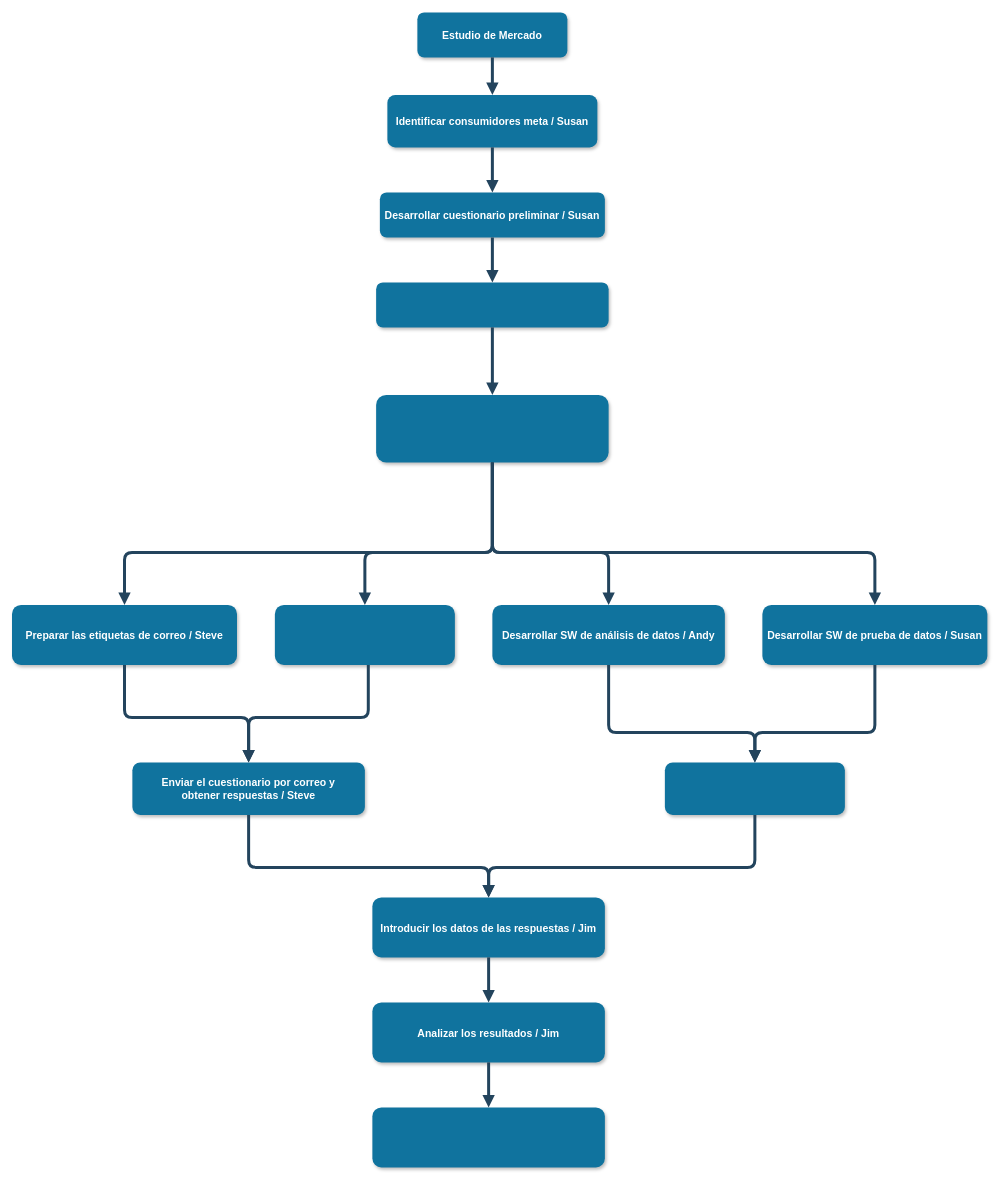
The diagram is 1000 pixels wide and 1180 high, and some of its shapes have lost their labels. The shapes that lost their labels are listed below. From the top down, each one's centre as x and y in pixels, then its label:
At point (493, 305): "Pruebas piloto del cuestionario / Susan".
At point (493, 429): "Revisar los comentarios y terminar cuestionario / Susan".
At point (365, 636): "Imprimir cuestionario / Steve".
At point (755, 789): "Probar el SW / Andy".
At point (489, 1138): "Preparar el informe / Jim".
